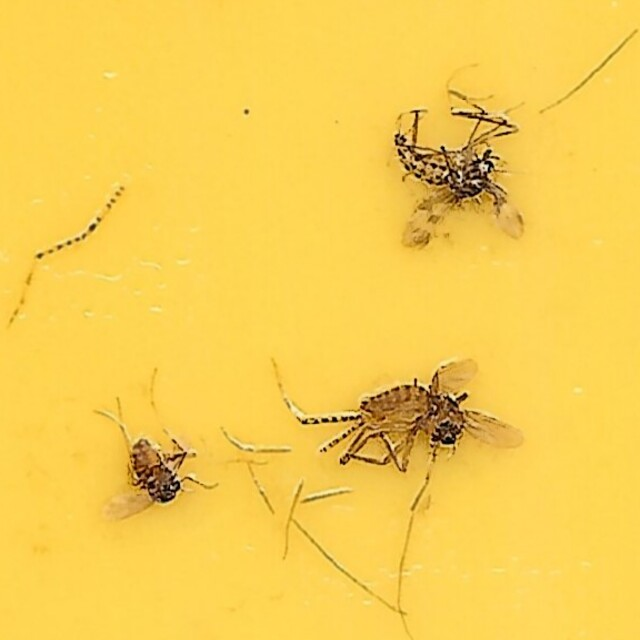Nematocera: (297, 378, 519, 479), (386, 117, 529, 248), (111, 429, 190, 523)
